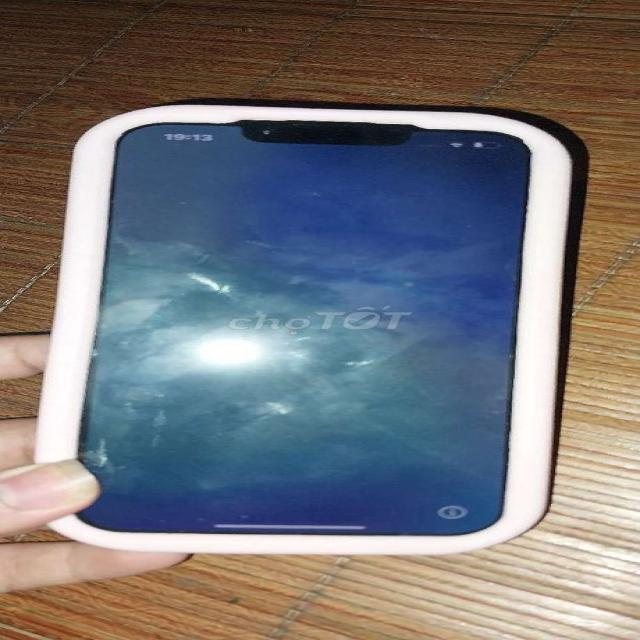scratch: (64, 398, 226, 488)
